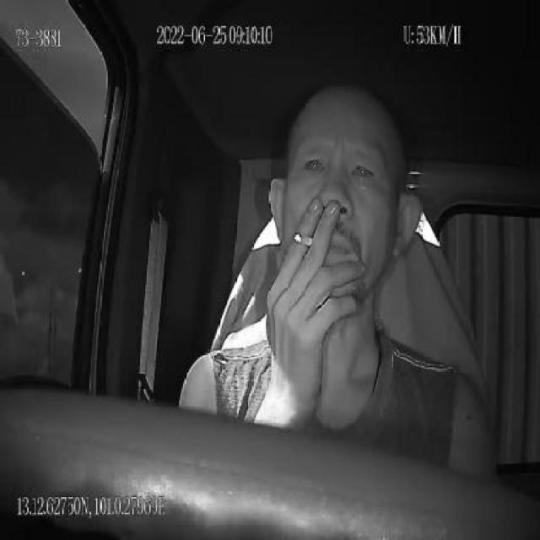smoking: (293, 231, 313, 247)
